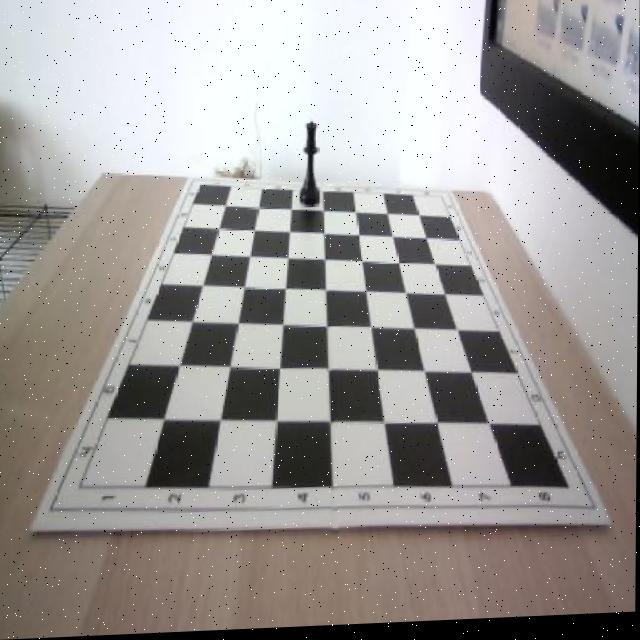black-pawn: (299, 122, 323, 212)
